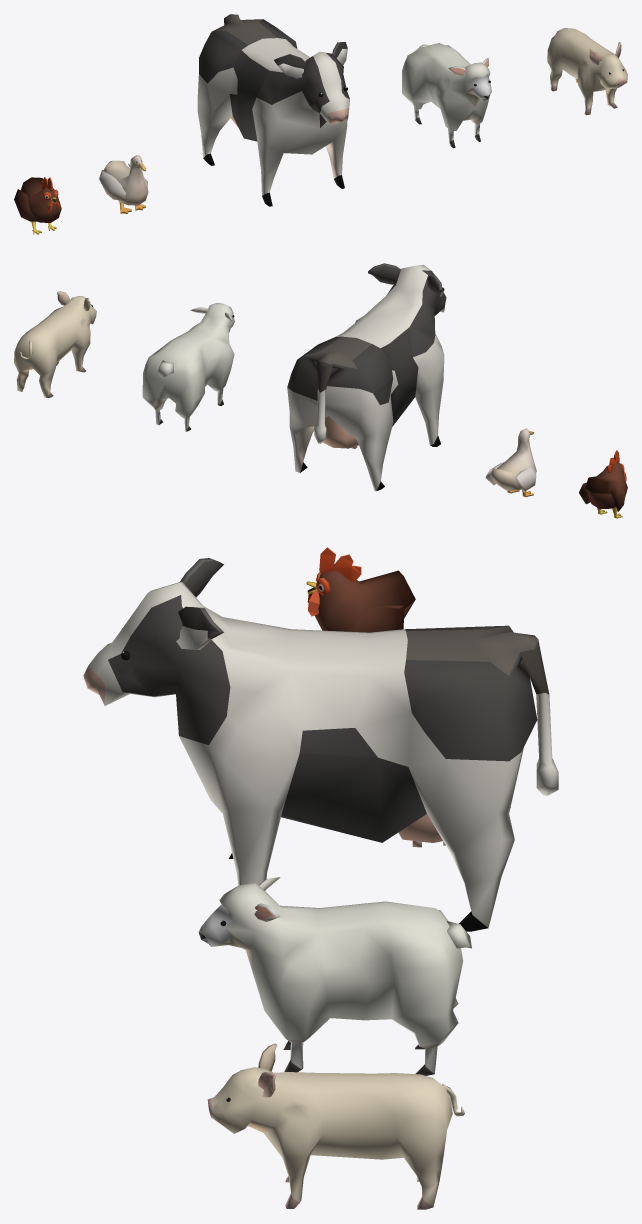
File: FarmAnimals_v1.1.dae
3 renders of one model, top to bottom at view 1: azimuth 30°, elevation 25°; view 2: azimuth 150°, elevation 25°; view 3: azimuth 270°, elevation 25°, orthographic. The views are drawn at different scales.
Visible parts, largest first — view 1: CowBlW, SheepWhite, Pig, DuckWhite, ChickenBrown; view 2: CowBlW, SheepWhite, Pig, ChickenBrown, DuckWhite; view 3: CowBlW, SheepWhite, Pig, ChickenBrown.
Part boxes in pixels (bbox=[...]): CowBlW: bbox=[197, 14, 349, 206]; SheepWhite: bbox=[402, 43, 491, 148]; Pig: bbox=[547, 28, 627, 115]; DuckWhite: bbox=[98, 155, 148, 213]; ChickenBrown: bbox=[14, 177, 61, 234]; CowBlW: bbox=[287, 263, 446, 491]; SheepWhite: bbox=[142, 303, 235, 431]; Pig: bbox=[14, 291, 96, 397]; ChickenBrown: bbox=[579, 450, 627, 518]; DuckWhite: bbox=[485, 428, 536, 497]; CowBlW: bbox=[83, 558, 558, 931]; SheepWhite: bbox=[198, 877, 471, 1075]; Pig: bbox=[207, 1043, 464, 1209]; ChickenBrown: bbox=[306, 547, 415, 632].
Bounding box in the file's own units: 6.2 × 2.2 × 1.59.
